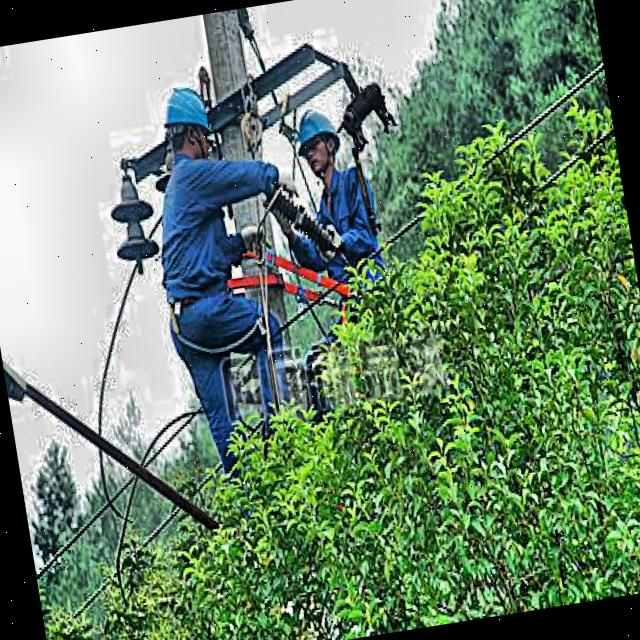helmet: (152, 76, 222, 176), (289, 101, 349, 184)
